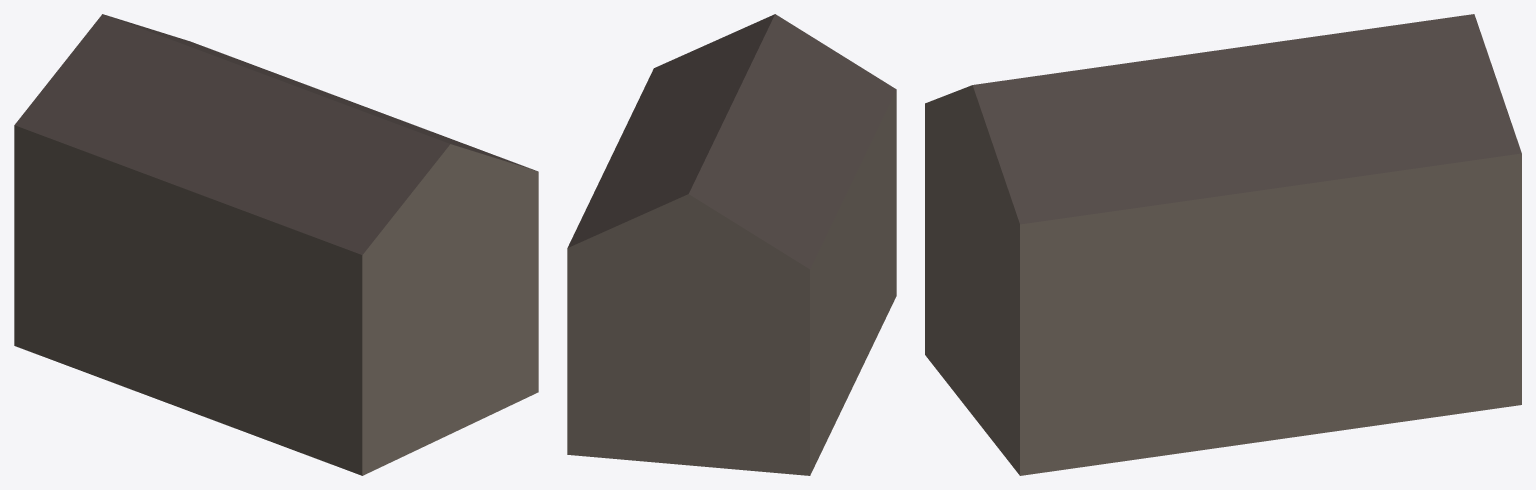
3 views of the same model, side by side, from view 1: azimuth 30°, elevation 25°; view 2: azimuth 150°, elevation 25°; view 3: azimuth 270°, elevation 25° (orthographic). The views are drawn at different scales.
Visible parts, largest first — view 1: HP-w372180459; view 2: HP-w372180459; view 3: HP-w372180459.
Part boxes in pixels (box(x1,y1,x2,y2)): HP-w372180459: box(14, 14, 538, 475); HP-w372180459: box(567, 14, 896, 475); HP-w372180459: box(925, 14, 1521, 475).
Size of the model in its own units: 14.74 by 11.83 by 19.36.
